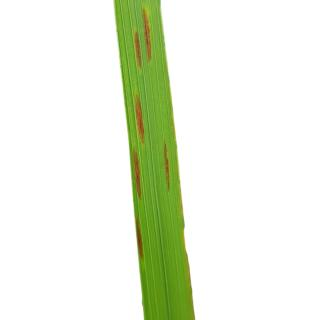Bercak-Cokelat-Sempit: (137, 4, 156, 64), (128, 142, 146, 203), (132, 90, 150, 150), (162, 140, 176, 202), (134, 210, 150, 264), (129, 27, 144, 70)
